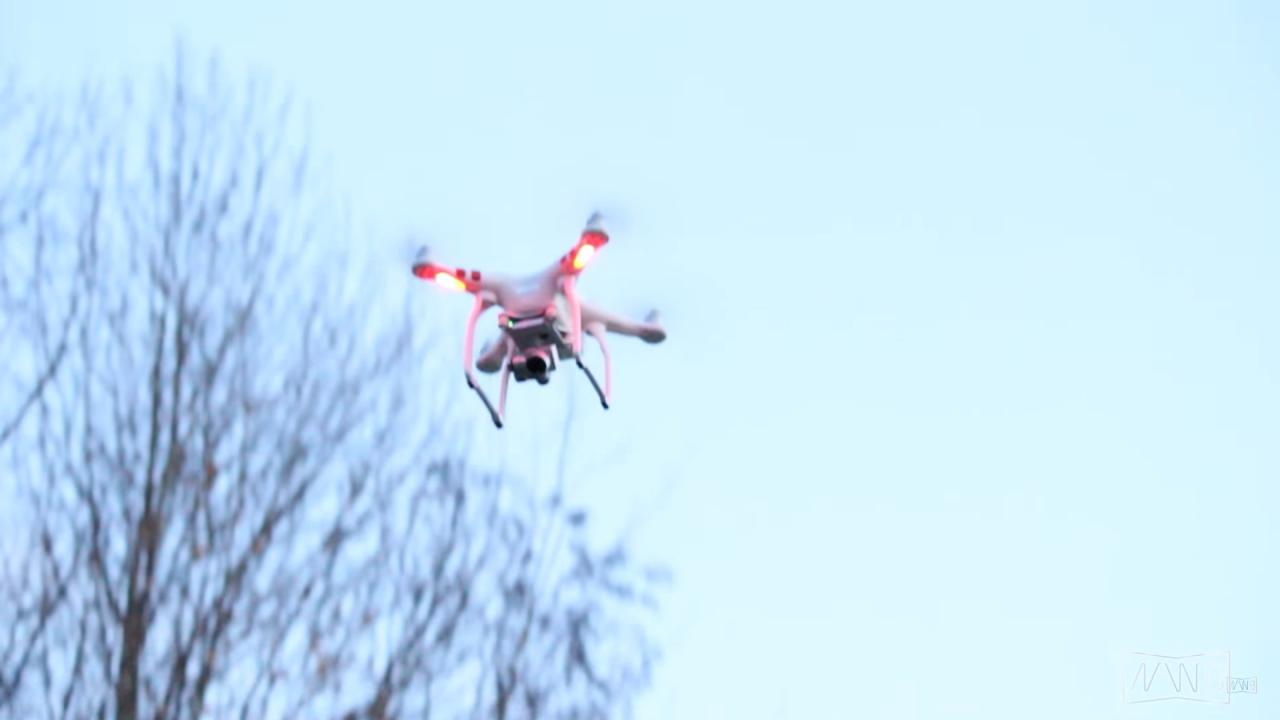Drone: (391, 197, 676, 436)
